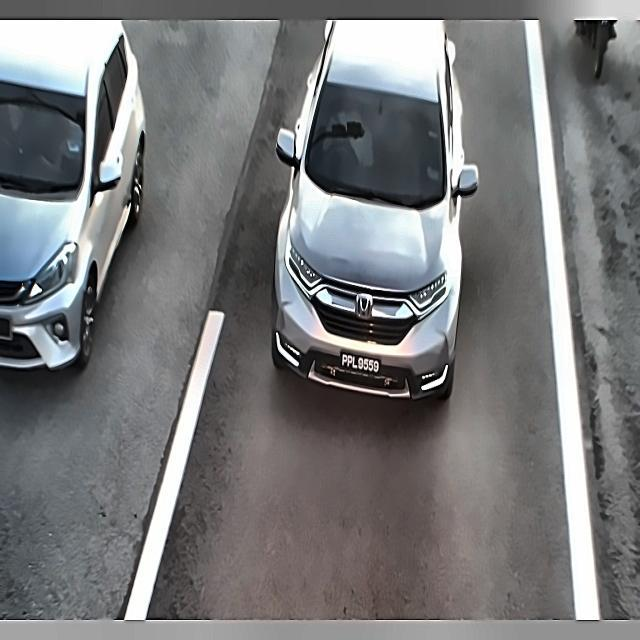car: (335, 345, 386, 383), (0, 306, 16, 354)
